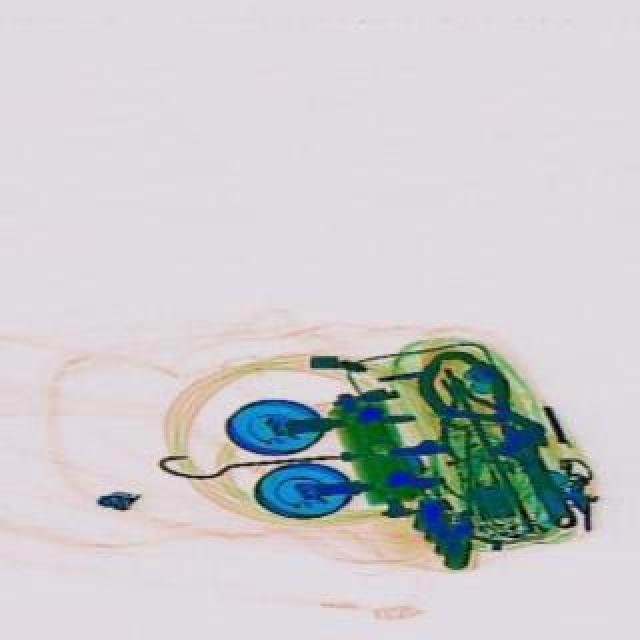scissors: (474, 410, 590, 542)
wrench: (402, 348, 540, 476)
